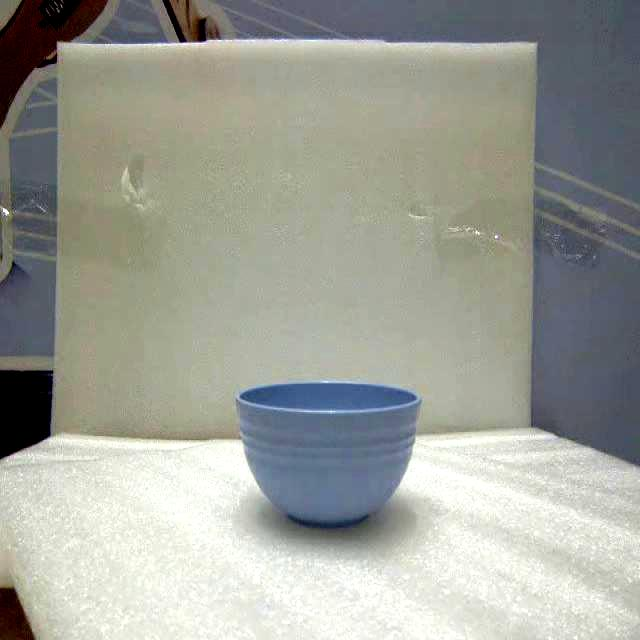Bowl: (236, 382, 420, 526)
